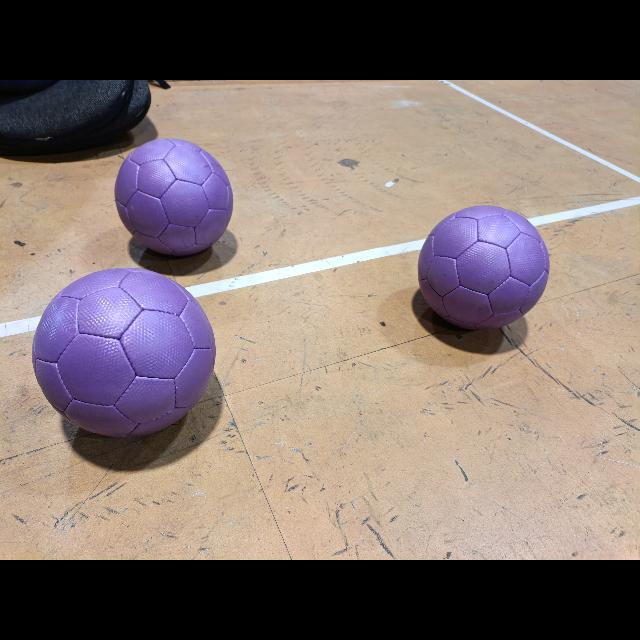P: (32, 268, 216, 437), (418, 205, 550, 328), (115, 138, 233, 255)
